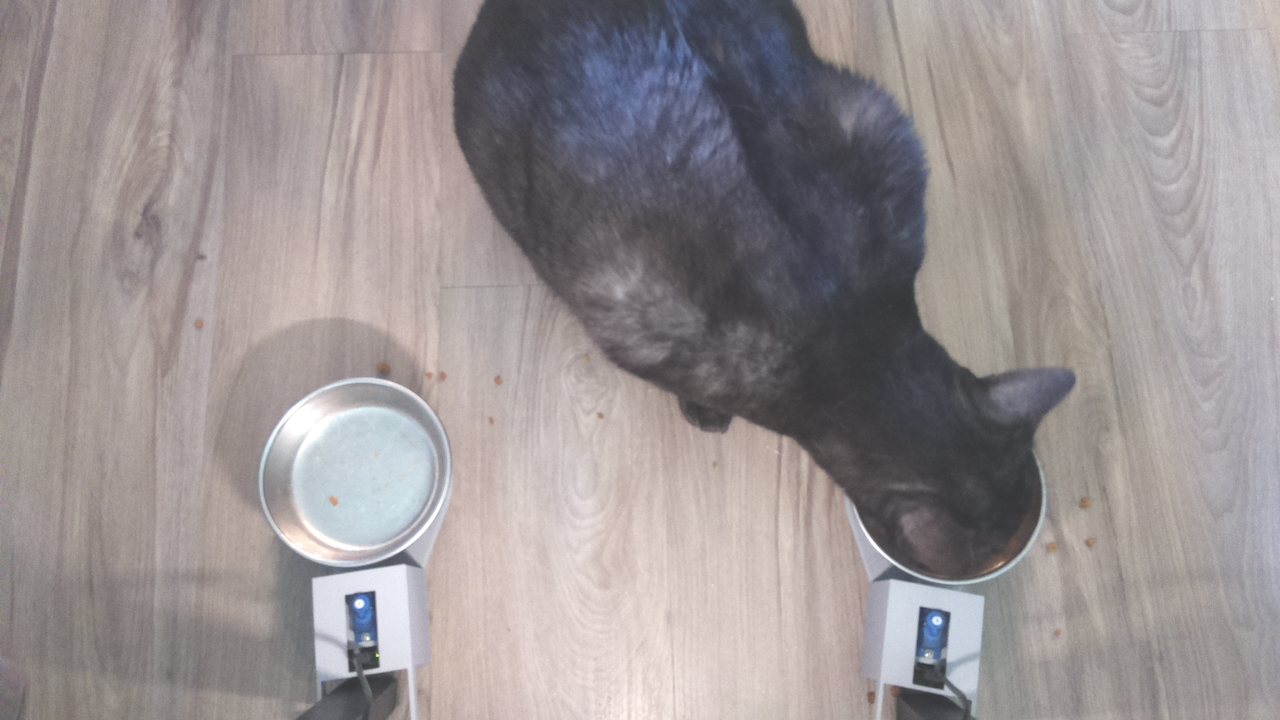open_bowl: (254, 373, 458, 571)
saki_eating: (807, 337, 1086, 589)
